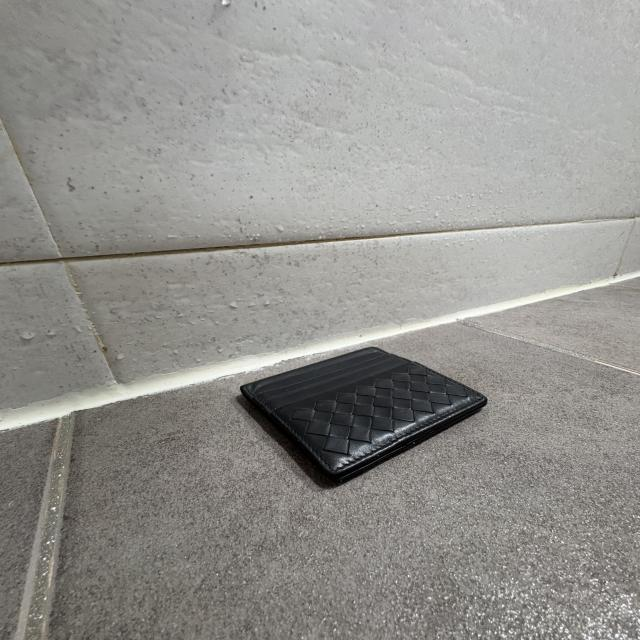wallet: (237, 344, 490, 494)
